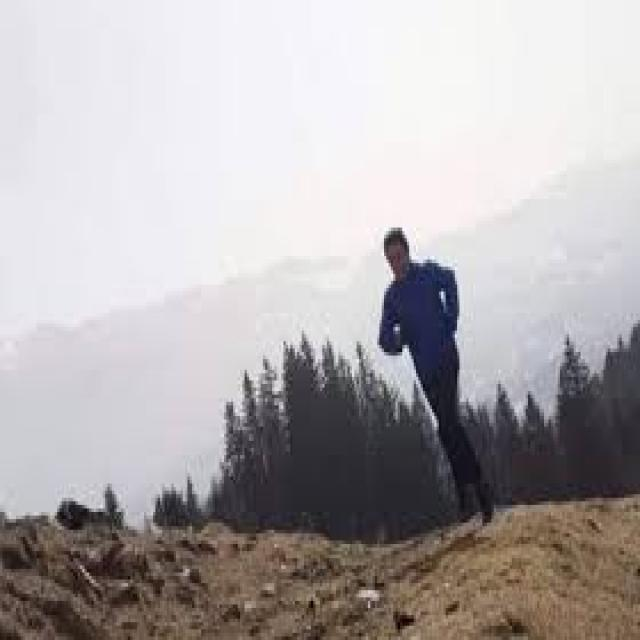running: (377, 226, 501, 532)
